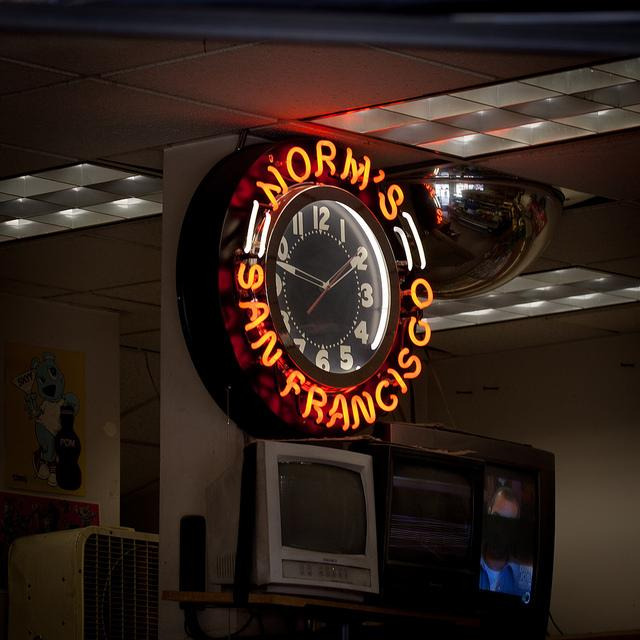Flat-Panel-TV: (377, 423, 556, 636), (352, 437, 491, 615)
